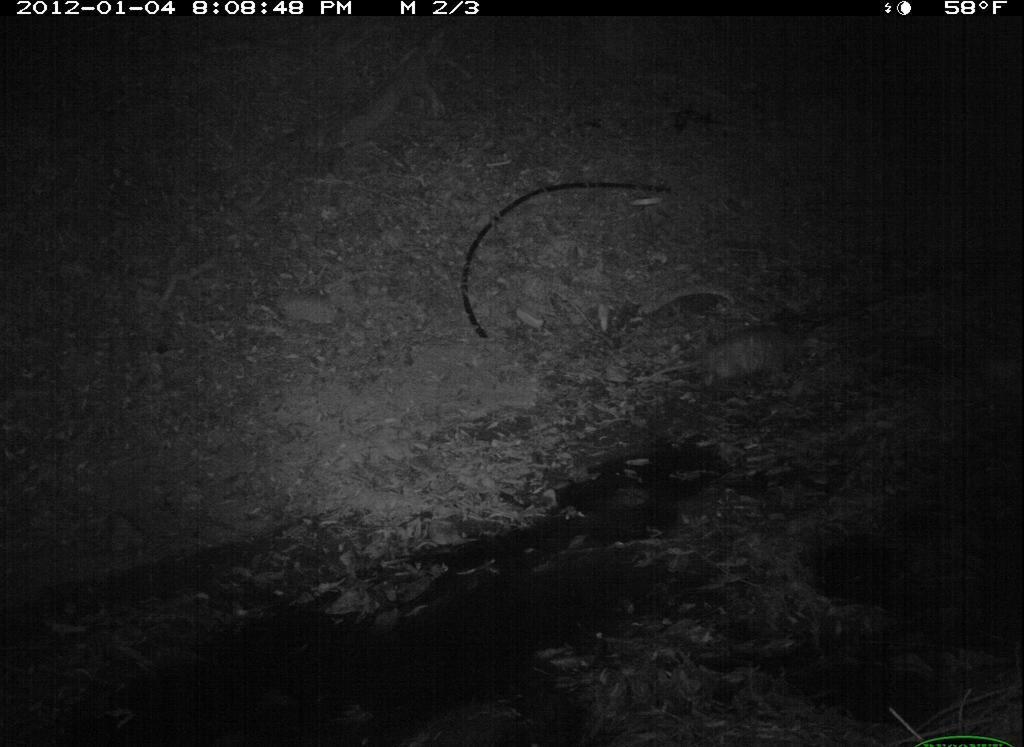opossum: (645, 324, 823, 387)
